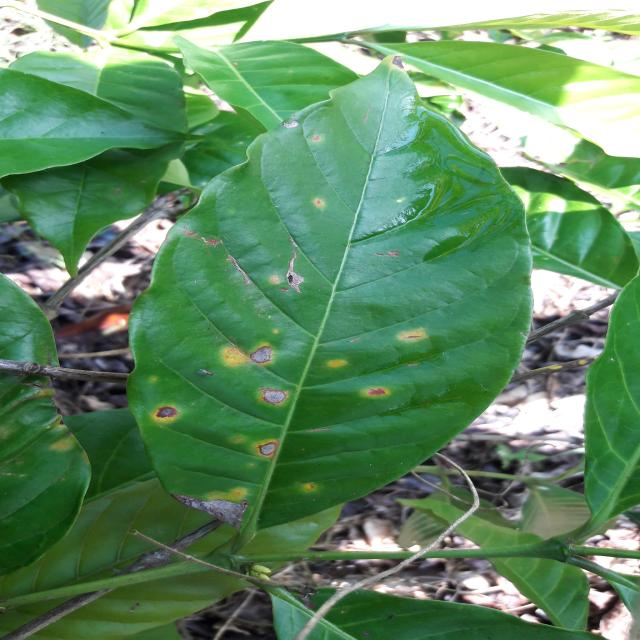Enfermedad-Roya: (127, 63, 534, 564)
